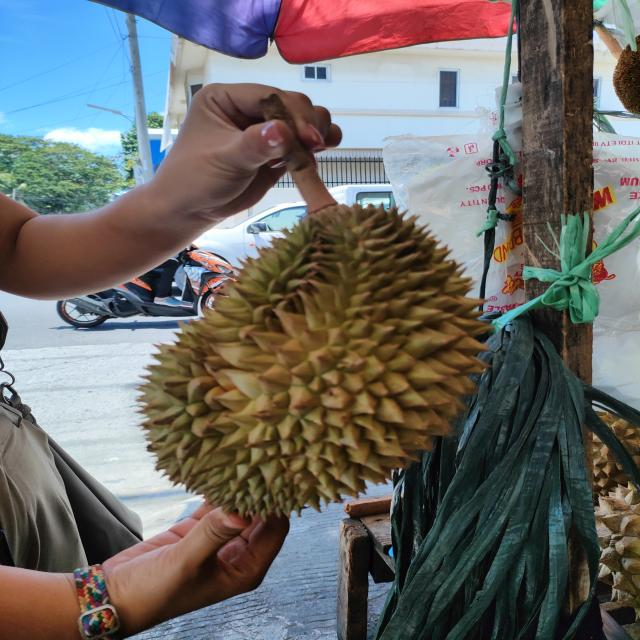mature: (129, 202, 492, 514)
